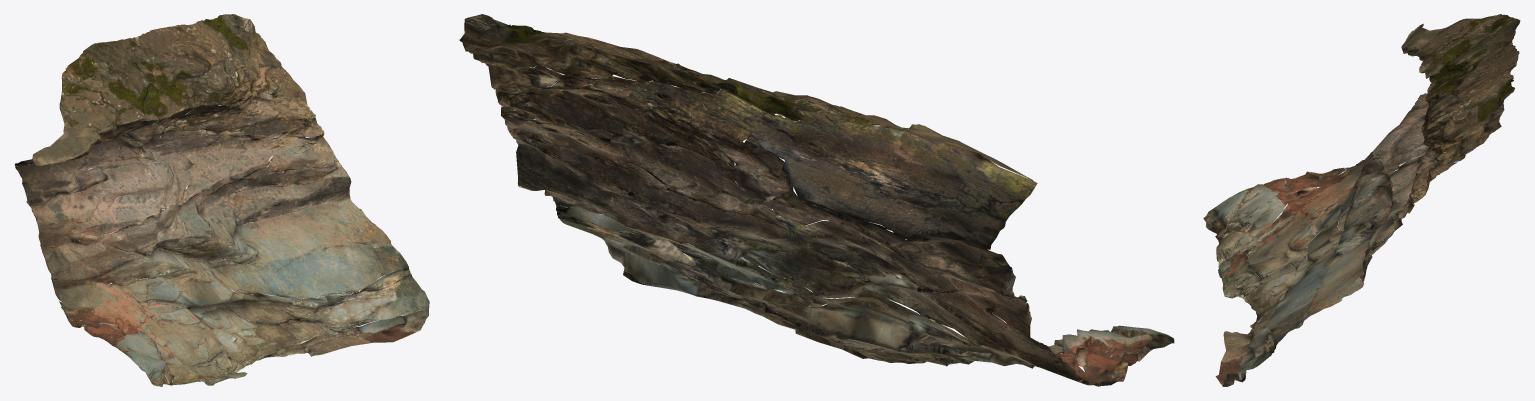
File: rock-ledge.glb
The picture shows the model from 3 angles, left to right: view 1: azimuth 30°, elevation 25°; view 2: azimuth 150°, elevation 25°; view 3: azimuth 270°, elevation 25°; orthographic projection. The views are drawn at different scales.
Visible parts, largest first — view 1: rock_face_01; view 2: rock_face_01; view 3: rock_face_01.
Part boxes in pixels (box(x1,y1,x2,y2)): rock_face_01: box(15, 14, 429, 386); rock_face_01: box(459, 14, 1174, 386); rock_face_01: box(1203, 14, 1520, 386).
Size of the model in its own units: 4.95 by 3.57 by 3.83.
Materials: 1 (1 with a texture image).
